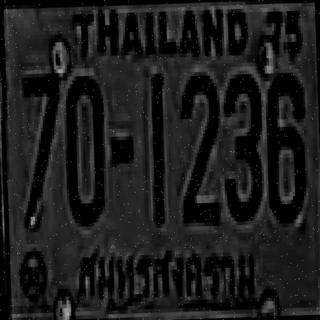N00: (63, 72, 105, 223)
N01: (149, 71, 165, 222)
N02: (176, 70, 219, 221)
N03: (220, 70, 263, 218)
N06: (263, 68, 306, 220)
N07: (19, 69, 64, 225)
P59: (71, 235, 260, 315)
